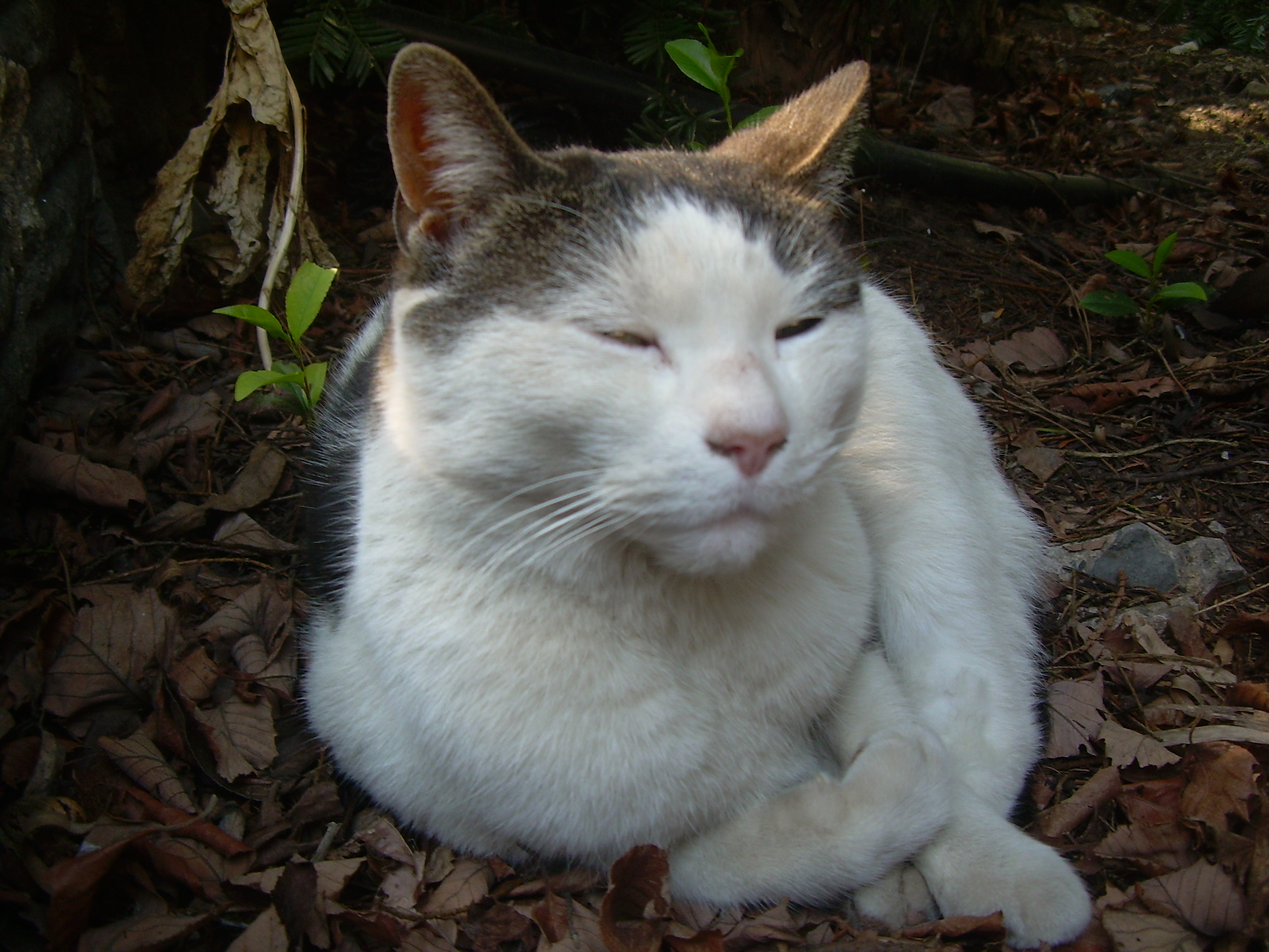cat: (277, 43, 1094, 946)
